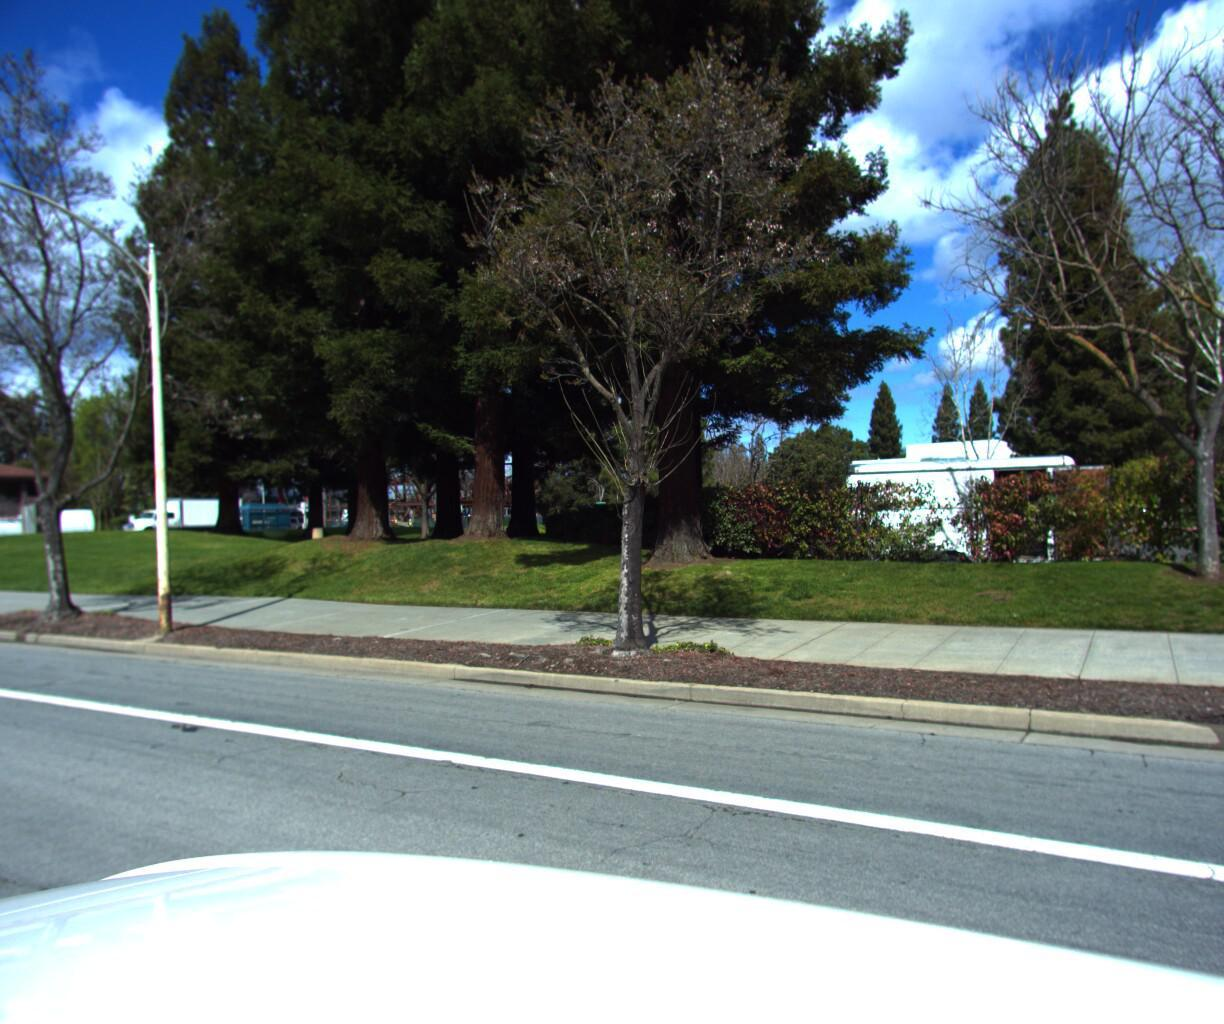car: (5, 510, 108, 547), (0, 514, 77, 556)
truck: (123, 497, 257, 543)
